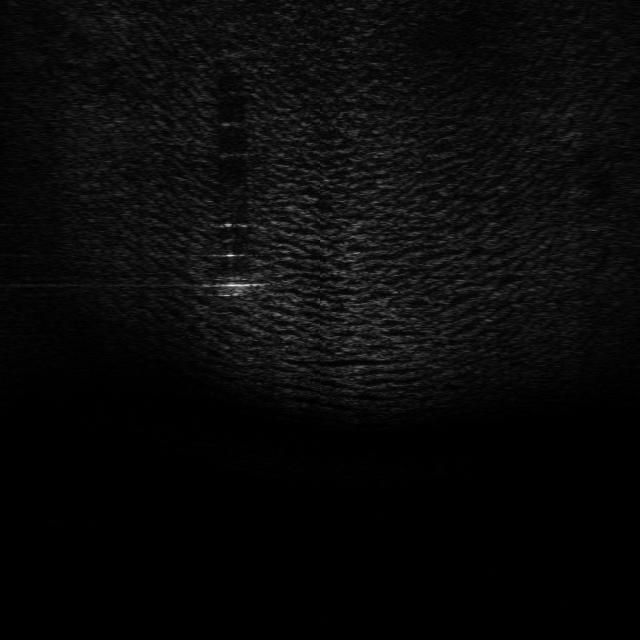cube: (213, 272, 257, 298)
